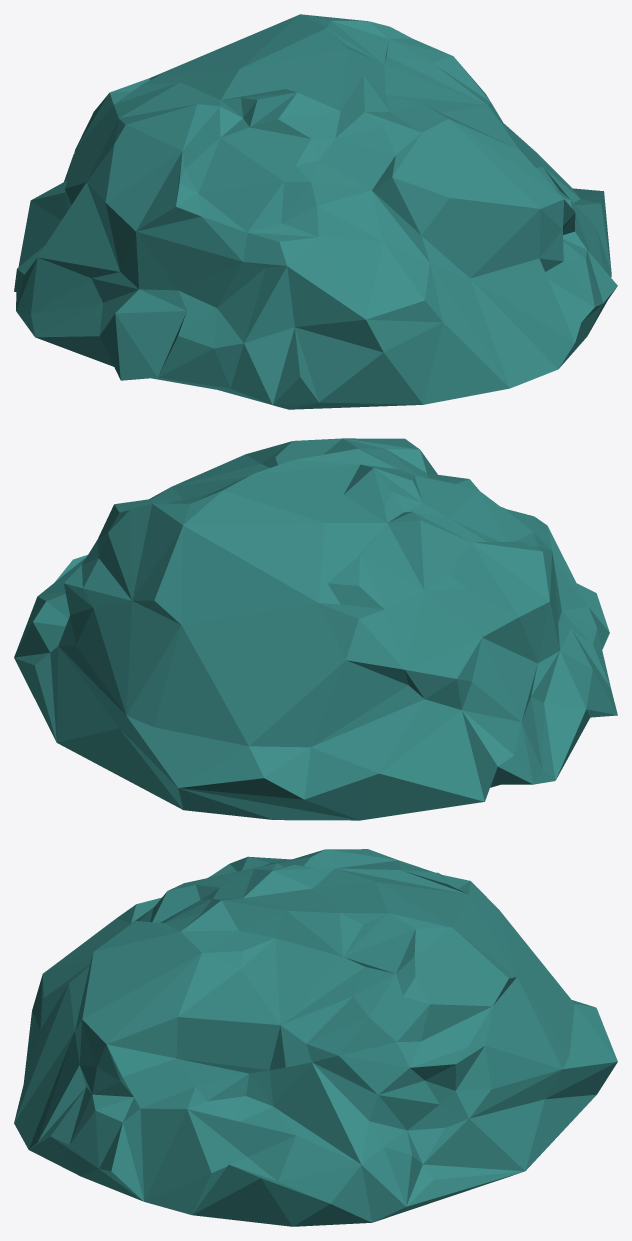
The model's file is SM_Sea_Vegetation_Big_A.fbx.
The picture shows the model from 3 angles, top to bottom: view 1: azimuth 30°, elevation 25°; view 2: azimuth 150°, elevation 25°; view 3: azimuth 270°, elevation 25°; orthographic projection. The views are drawn at different scales.
Parts seen in each view (by area): view 1: sea-vegetation-big-a; view 2: sea-vegetation-big-a; view 3: sea-vegetation-big-a.
Boxes of the visible parts, left/top/right/bottom form: sea-vegetation-big-a: left=14, top=14, right=617, bottom=409; sea-vegetation-big-a: left=14, top=438, right=617, bottom=820; sea-vegetation-big-a: left=14, top=849, right=617, bottom=1226.
Size of the model in its own units: 1.77 by 0.7149 by 1.8.
